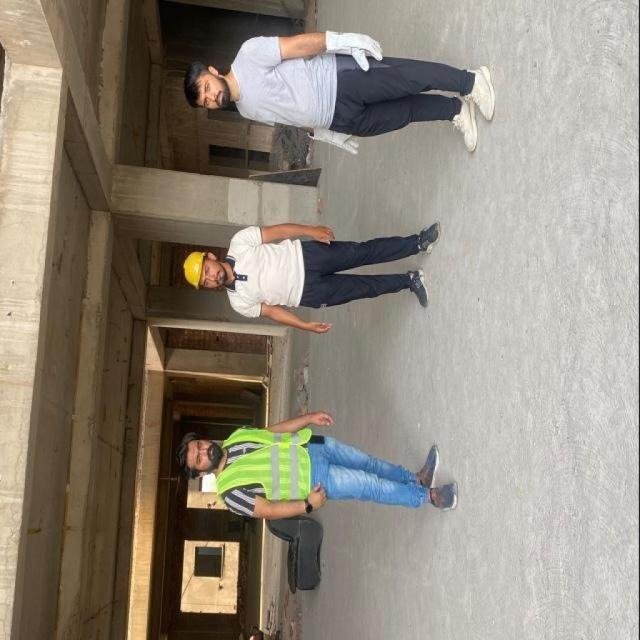Gloves-Detection: (315, 24, 383, 70), (308, 127, 361, 159)
